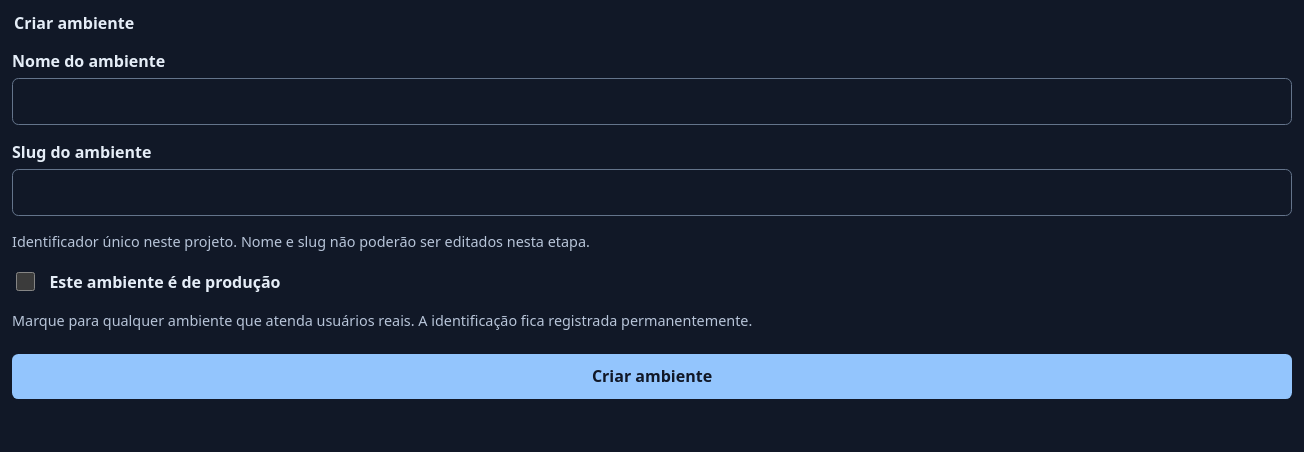
exige produção para slug reservado e aceita produção com slug personalizado
This screenshot has width=1304, height=452.
Later steps or results of the test are not shown.
Type "Produção Europa" into the field labelled "Nome do ambiente" at (652, 102), box 12,78 -> 1292,125
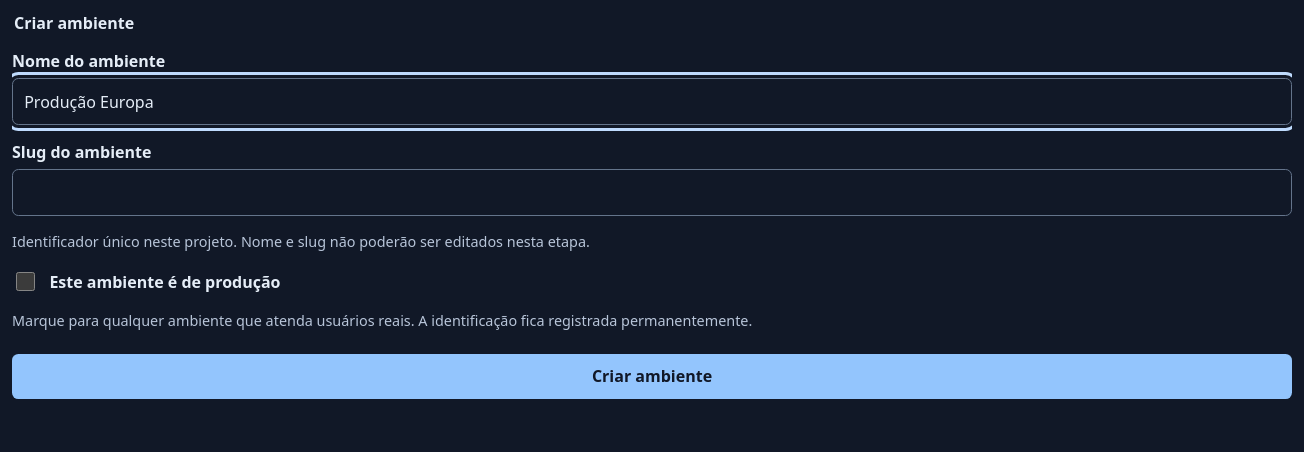
Type "production" into the field labelled "Slug do ambiente" at (652, 192), box 12,169 -> 1292,216
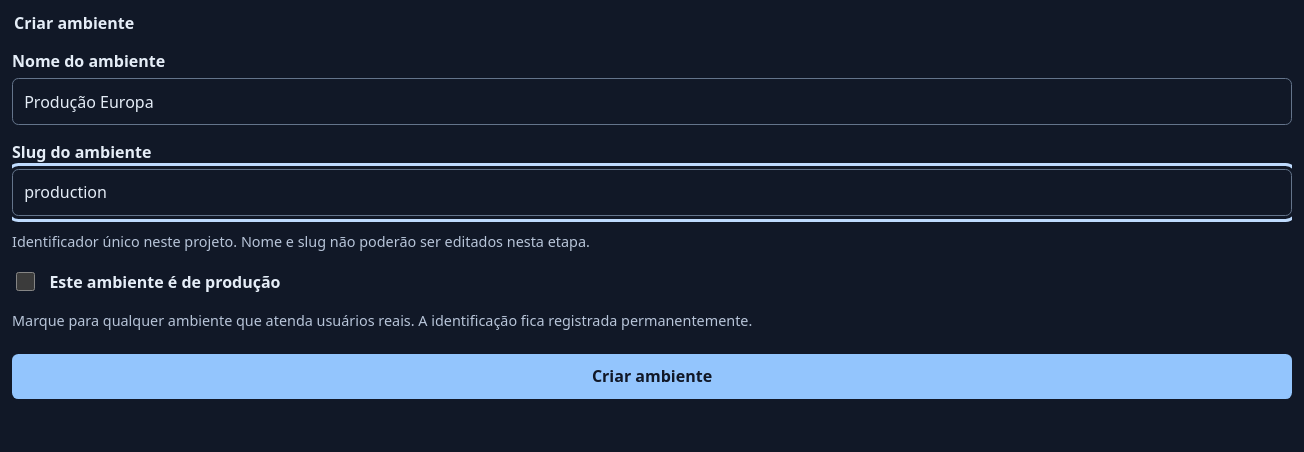
Click the button "Criar ambiente" at (652, 376), box 12,354 -> 1292,399
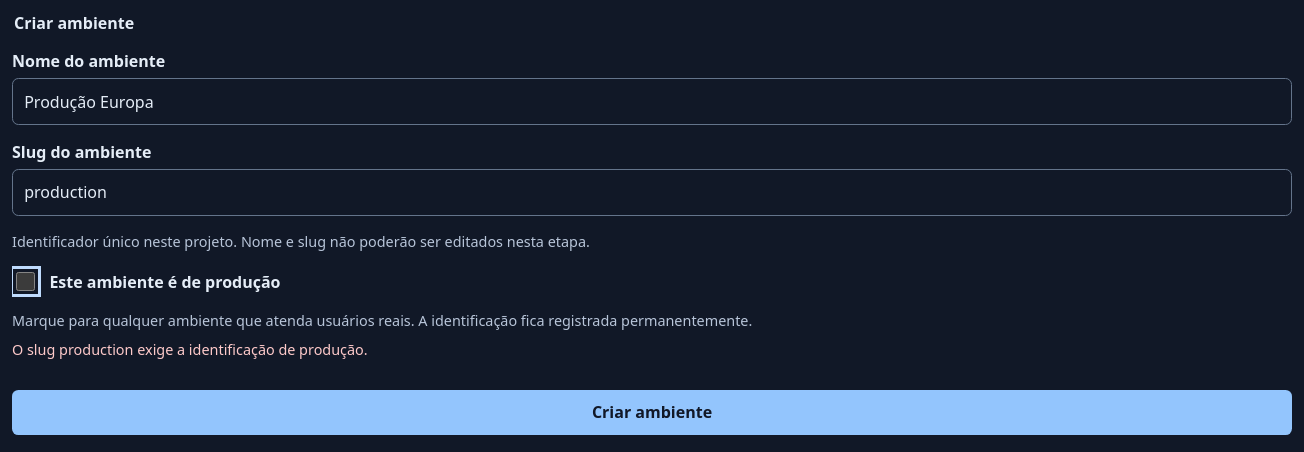
Check: the text "O slug production exige a identificação de produção." is shown, box 12,340 -> 368,359
